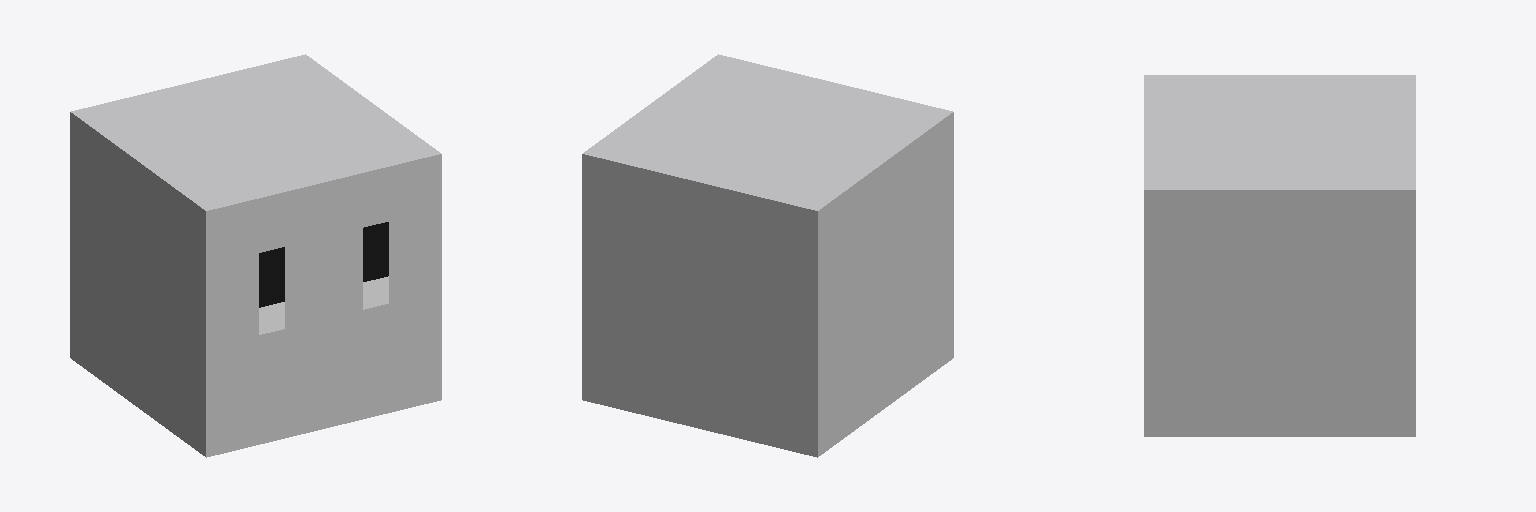
3 views of the same model, side by side, from view 1: azimuth 30°, elevation 25°; view 2: azimuth 150°, elevation 25°; view 3: azimuth 270°, elevation 25° (orthographic).
Visible parts, largest first — view 1: object 1; view 2: object 1; view 3: object 1.
Boxes of the visible parts, x1=… form: object 1: x1=70, y1=54, x2=441, y2=457; object 1: x1=582, y1=54, x2=953, y2=457; object 1: x1=1144, y1=75, x2=1415, y2=436.
Size of the model in its own units: 0.9 by 0.9 by 0.9.
Materials: 1 (1 with a texture image).